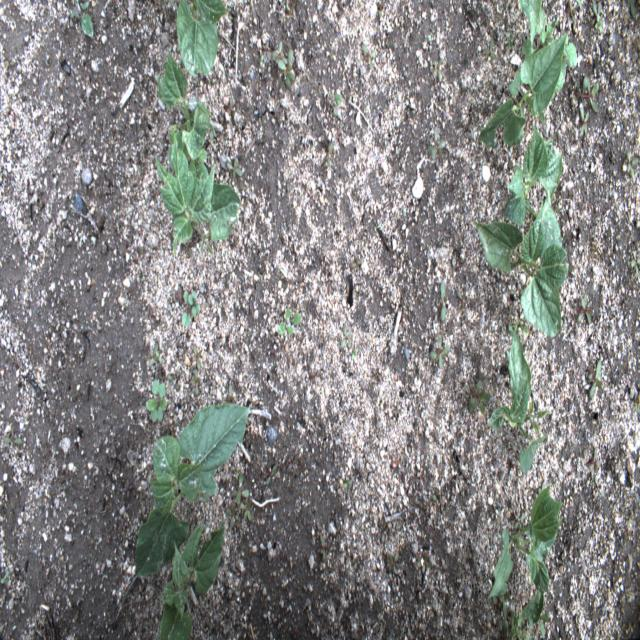crop: (133, 402, 251, 579), (477, 0, 578, 150), (474, 218, 570, 337), (486, 484, 564, 630), (154, 139, 241, 261), (488, 319, 554, 474), (156, 518, 226, 638), (502, 122, 564, 247), (156, 46, 215, 162), (176, 0, 232, 80)
weed: (144, 377, 168, 422), (573, 74, 600, 114), (68, 2, 94, 40), (429, 331, 451, 371), (468, 379, 492, 415), (180, 290, 202, 326), (584, 356, 602, 400), (276, 307, 304, 335), (508, 610, 534, 640), (231, 469, 250, 506), (428, 125, 447, 160), (576, 291, 594, 326), (284, 47, 296, 92), (587, 447, 602, 482), (272, 39, 287, 72), (417, 549, 435, 576), (3, 423, 24, 446), (147, 341, 162, 372), (362, 42, 377, 72), (322, 138, 335, 172), (386, 548, 401, 577), (626, 149, 639, 182), (226, 157, 243, 182), (339, 325, 354, 352), (499, 600, 509, 638), (329, 91, 343, 118), (437, 280, 446, 322), (579, 102, 590, 136), (190, 367, 202, 396), (241, 495, 253, 524), (433, 55, 445, 84), (262, 464, 277, 486), (226, 504, 239, 528), (191, 343, 203, 368), (349, 252, 364, 272), (484, 36, 496, 61), (592, 2, 602, 32), (539, 611, 550, 638), (630, 250, 640, 279), (566, 0, 577, 25), (318, 532, 327, 562), (594, 474, 604, 498), (627, 0, 636, 20), (0, 570, 10, 584)
